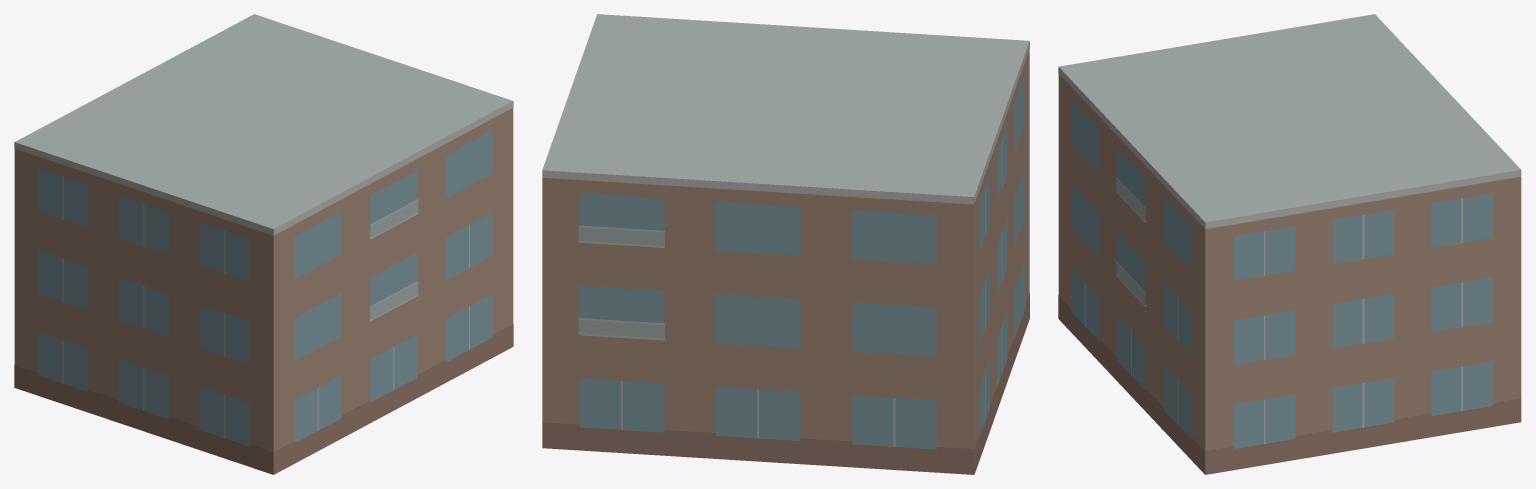
File: survey-upis-32800146.glb
3 views of the same model, side by side, from view 1: azimuth 30°, elevation 25°; view 2: azimuth 150°, elevation 25°; view 3: azimuth 270°, elevation 25° (orthographic). The views are drawn at different scales.
Parts seen in each view (by area): view 1: survey-upis-32800146.tmp; view 2: survey-upis-32800146.tmp; view 3: survey-upis-32800146.tmp.
Boxes of the visible parts, <box> form: survey-upis-32800146.tmp: <box>14,14,513,474</box>; survey-upis-32800146.tmp: <box>542,14,1029,474</box>; survey-upis-32800146.tmp: <box>1058,14,1521,474</box>.
Bounding box in the file's own units: 16.23 × 9.15 × 15.22.
